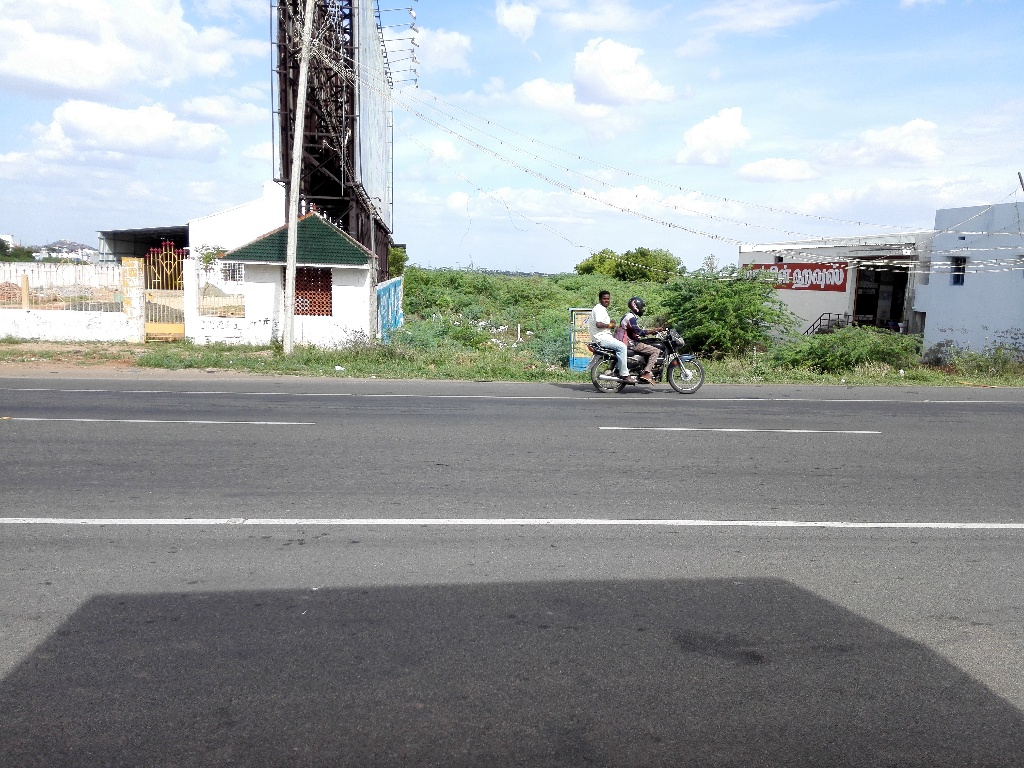biker: (576, 259, 716, 402)
helmet: (623, 288, 649, 325)
nohelmet: (593, 278, 616, 316)
